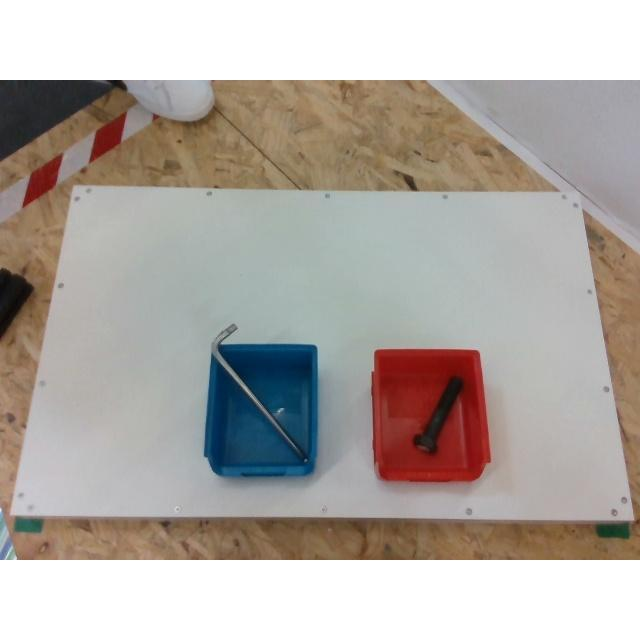AllenKey: (211, 324, 239, 456)
M20_100: (412, 375, 463, 451)
S40_40_B: (0, 267, 32, 336)
container_box_blue: (206, 343, 314, 469)
container_box_red: (372, 348, 488, 479)
